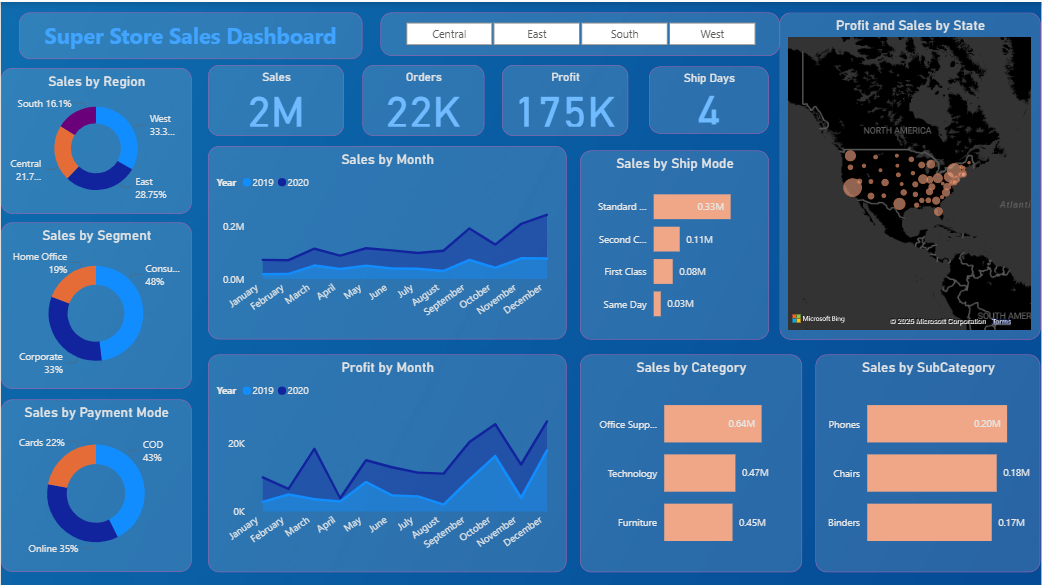

The dashboard page shown, as its layout file describes it:
{"tool":"powerbi","page":{"name":"Overview","canvas":[1280,720],"ordinal":0},"visuals":[{"type":"clusteredBarChart","title":"Sales by Category","fields":{"Category":["SuperStore_Sales_Dataset.Category"],"Y":["Sum(SuperStore_Sales_Dataset.Sales)"]},"box":[712.6,433.8,273.2,267.7],"z":0},{"type":"clusteredBarChart","title":"Sales by SubCategory","fields":{"Category":["SuperStore_Sales_Dataset.Sub-Category"],"Y":["Sum(SuperStore_Sales_Dataset.Sales)"]},"box":[1002.5,433.8,276.9,267.7],"z":1000},{"type":"clusteredBarChart","title":"Sales by Ship Mode","fields":{"Category":["SuperStore_Sales_Dataset.Ship Mode"],"Y":["Sum(SuperStore_Sales_Dataset.Sales)"]},"box":[712.6,182.8,232.6,232.6],"z":2000},{"type":"stackedAreaChart","title":"Sales by Month","fields":{"Y":["Sum(SuperStore_Sales_Dataset.Sales)"],"Category":["SuperStore_Sales_Dataset.Order Date.Variation.Date Hierarchy.Month"],"Series":["SuperStore_Sales_Dataset.Order Date.Variation.Date Hierarchy.Year"]},"box":[254.8,177.2,441.2,238.2],"z":3000},{"type":"stackedAreaChart","title":"Profit by Month","fields":{"Category":["SuperStore_Sales_Dataset.Order Date.Variation.Date Hierarchy.Month"],"Series":["SuperStore_Sales_Dataset.Order Date.Variation.Date Hierarchy.Year"],"Y":["Sum(SuperStore_Sales_Dataset.Profit)"]},"box":[254.8,433.8,441.2,267.7],"z":4000},{"type":"map","title":"Profit and Sales by State","fields":{"Category":["SuperStore_Sales_Dataset.State"],"Size":["Sum(SuperStore_Sales_Dataset.Sales)"]},"box":[958.2,12.9,321.2,402.5],"z":5000},{"type":"donutChart","title":"Sales by Segment","fields":{"Category":["SuperStore_Sales_Dataset.Segment"],"Y":["Sum(SuperStore_Sales_Dataset.Sales)"]},"box":[0,271.4,234.5,204.9],"z":6000},{"type":"donutChart","title":"Sales by Payment Mode","fields":{"Category":["SuperStore_Sales_Dataset.Payment Mode"],"Y":["Sum(SuperStore_Sales_Dataset.Sales)"]},"box":[0,489.2,234.5,212.3],"z":7000},{"type":"slicer","fields":{"Values":["SuperStore_Sales_Dataset.Region"]},"box":[467.1,12.9,491.1,53.5],"z":8000},{"type":"textbox","box":[22.2,12.9,422.8,57.2],"z":9000},{"type":"card","title":"Sales","fields":{"Values":["Sum(SuperStore_Sales_Dataset.Sales)"]},"box":[255,77.5,167.5,87.5],"z":10000},{"type":"card","title":"Orders","fields":{"Values":["Sum(SuperStore_Sales_Dataset.Quantity)"]},"box":[445,77.5,150,87.5],"z":11000},{"type":"card","title":"Profit","fields":{"Values":["Sum(SuperStore_Sales_Dataset.Profit)"]},"box":[617.5,77.5,155,87.5],"z":12000},{"type":"card","title":"Ship Days","fields":{"Values":["Avg(SuperStore_Sales_Dataset.AvgDelievery)"]},"box":[797.5,80,147.5,82.5],"z":13000},{"type":"donutChart","title":"Sales by Region","fields":{"Category":["SuperStore_Sales_Dataset.Region"],"Y":["Sum(SuperStore_Sales_Dataset.Sales)"]},"box":[0,81.2,234.5,179.1],"z":14000}]}

Visuals, with their boxes in screenshot pixels (x1, y1, x2, y2), scaled from the page's 1280x720 canvas onto the 1042x585 screenshot:
"Sales by Category" clusteredBarChart: x1=580 y1=352 x2=803 y2=570
"Sales by SubCategory" clusteredBarChart: x1=816 y1=352 x2=1041 y2=570
"Sales by Ship Mode" clusteredBarChart: x1=580 y1=149 x2=769 y2=338
"Sales by Month" stackedAreaChart: x1=207 y1=144 x2=567 y2=338
"Profit by Month" stackedAreaChart: x1=207 y1=352 x2=567 y2=570
"Profit and Sales by State" map: x1=780 y1=10 x2=1041 y2=338
"Sales by Segment" donutChart: x1=0 y1=221 x2=191 y2=387
"Sales by Payment Mode" donutChart: x1=0 y1=397 x2=191 y2=570
slicer - SuperStore_Sales_Dataset.Region: x1=380 y1=10 x2=780 y2=54
textbox: x1=18 y1=10 x2=362 y2=57
"Sales" card: x1=208 y1=63 x2=344 y2=134
"Orders" card: x1=362 y1=63 x2=484 y2=134
"Profit" card: x1=503 y1=63 x2=629 y2=134
"Ship Days" card: x1=649 y1=65 x2=769 y2=132
"Sales by Region" donutChart: x1=0 y1=66 x2=191 y2=211
